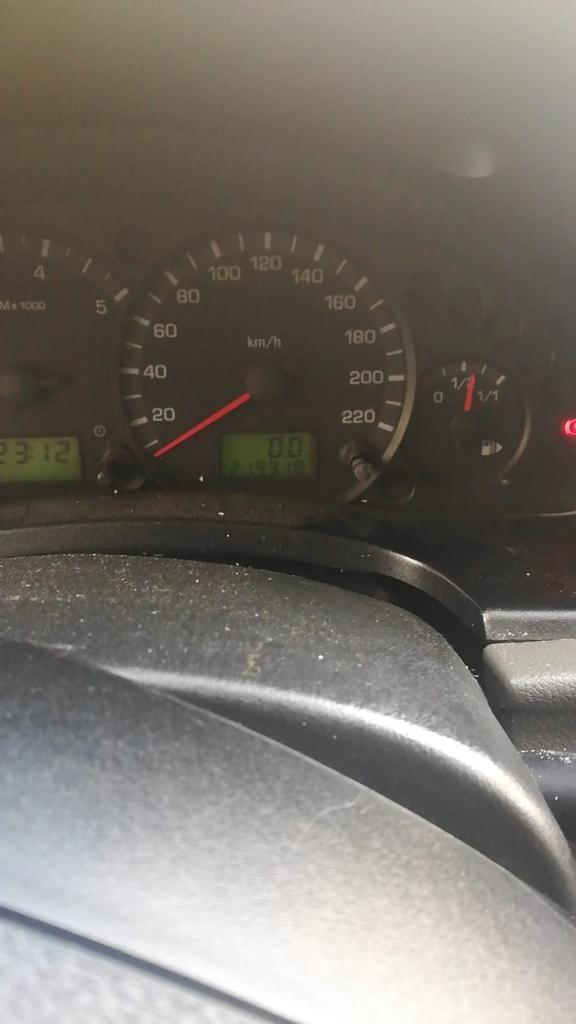,: (283, 453, 288, 459)
0: (288, 434, 303, 457), (268, 435, 283, 458)
1: (246, 459, 255, 477), (285, 459, 293, 477)
2: (228, 457, 240, 478)
8: (294, 458, 305, 478)
9: (268, 460, 280, 477), (256, 459, 266, 477)
odometer: (217, 429, 317, 479)
